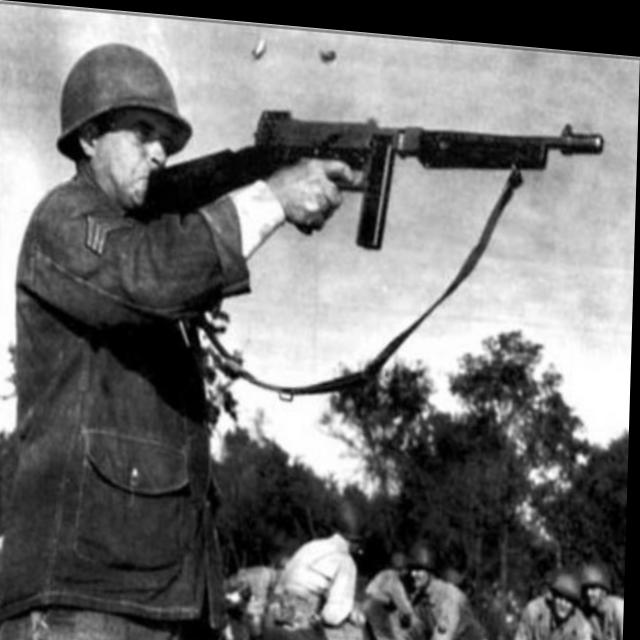other: (0, 20, 250, 640), (274, 495, 352, 640), (405, 538, 484, 640), (525, 560, 594, 640), (358, 541, 408, 640), (585, 545, 627, 640)
